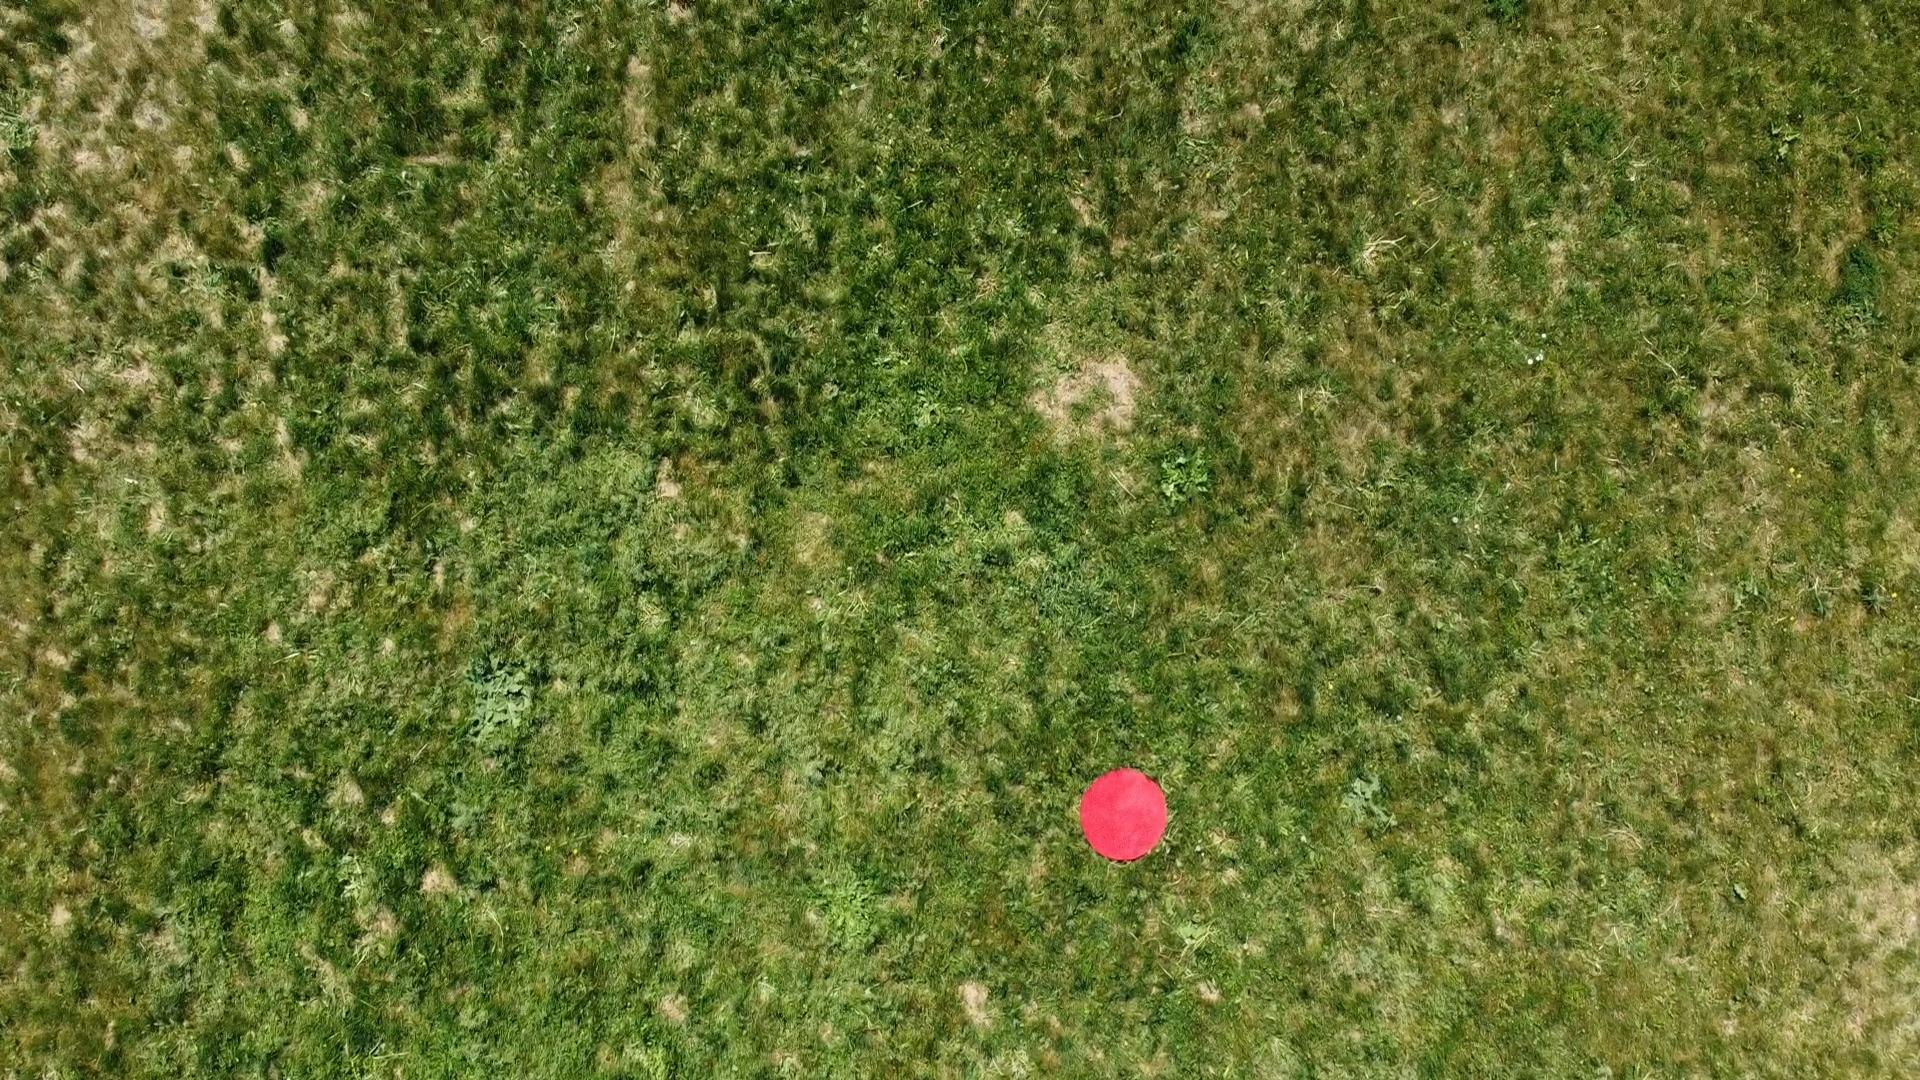Red: (1080, 767, 1174, 866)
